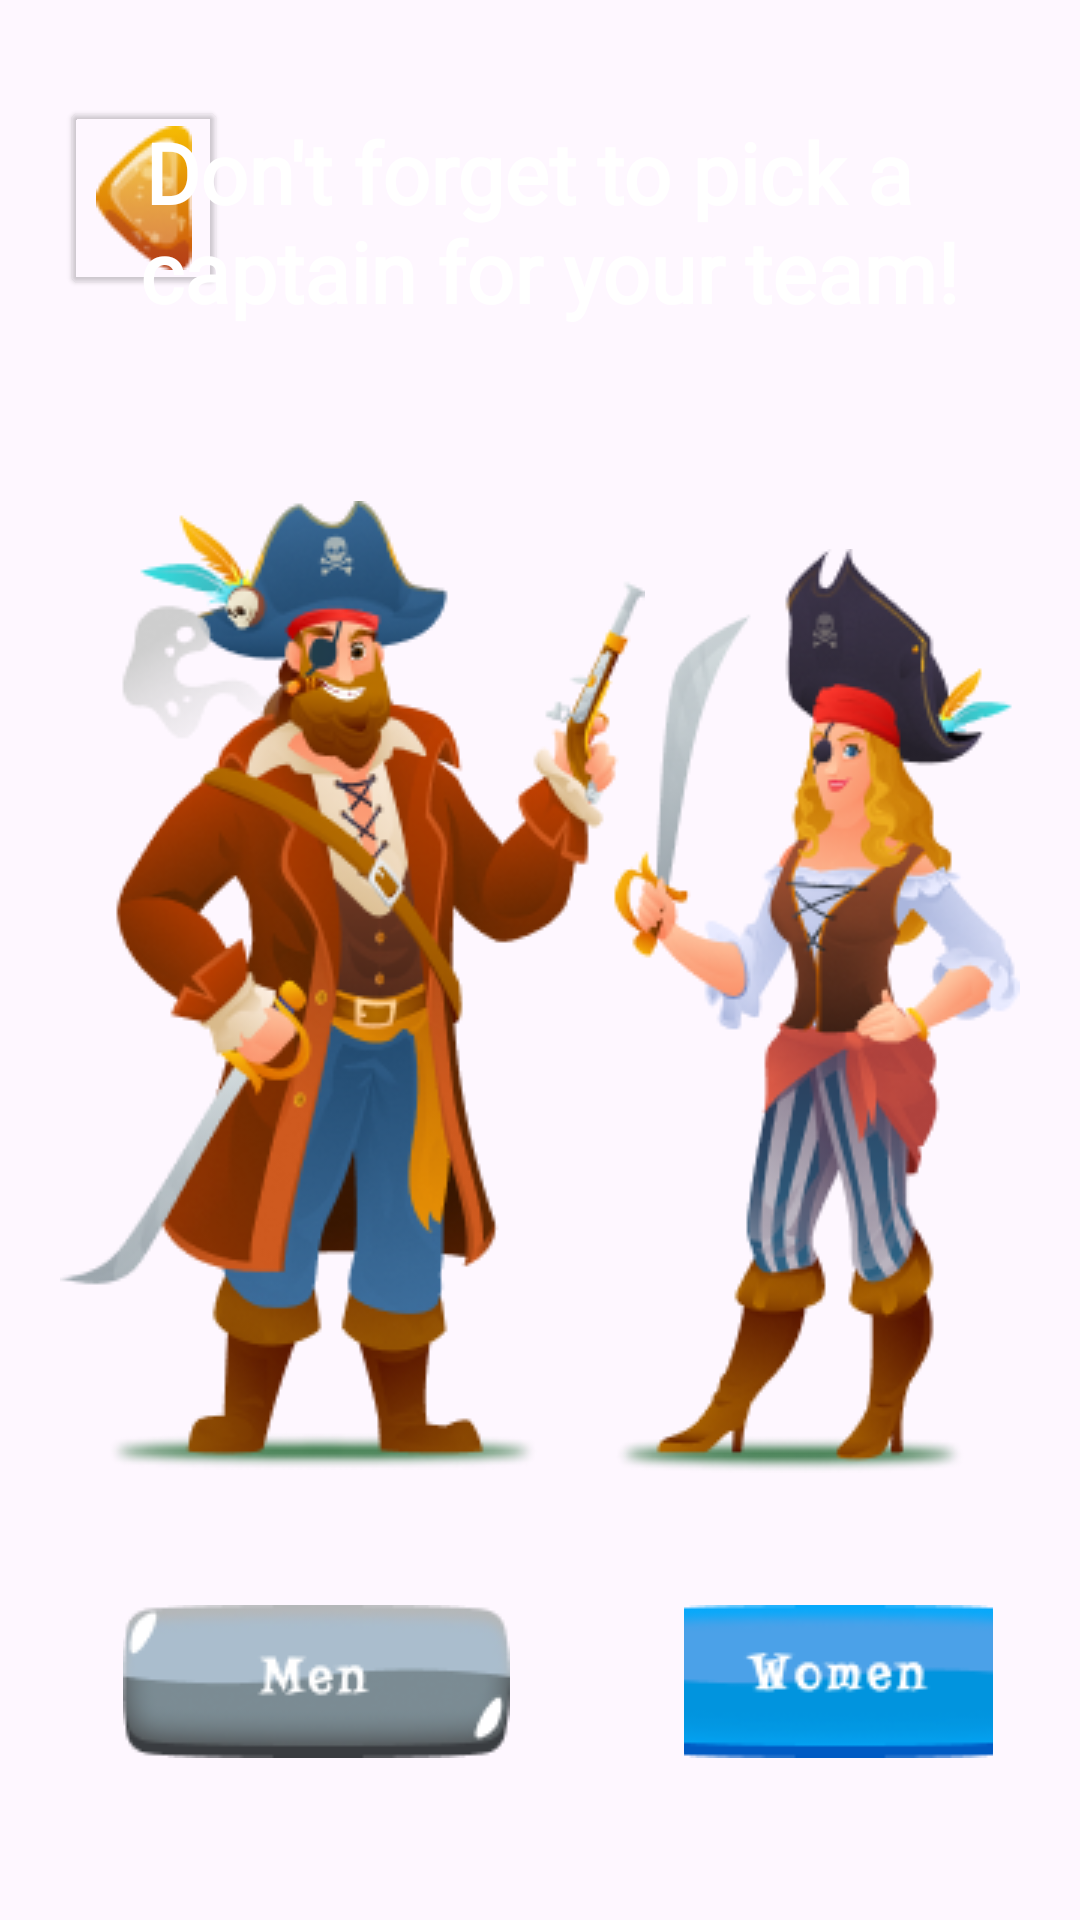

Icon click points for this 1080 x 1920 phone screenshot, format [x,y]:
back: [142,198]
